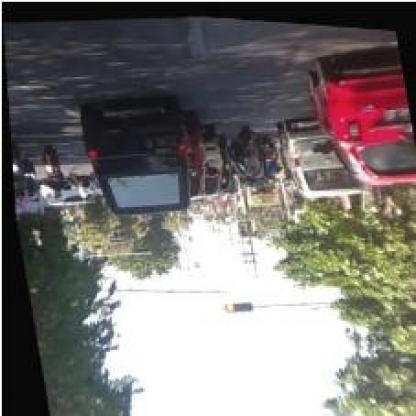red: (222, 296, 247, 309)
